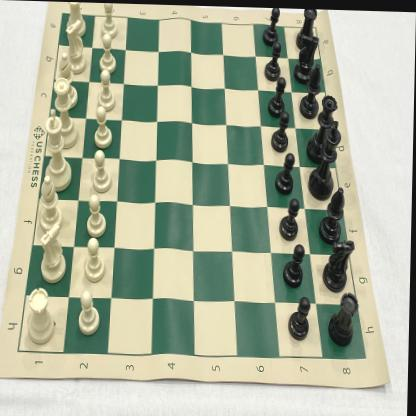black-bishop: (320, 183, 347, 241), (300, 62, 324, 116)
black-king: (309, 118, 343, 198)
black-knight: (324, 236, 357, 288), (295, 31, 320, 81)
black-pawn: (289, 294, 313, 341), (278, 195, 301, 240), (285, 241, 306, 289), (275, 150, 296, 192), (272, 109, 290, 151), (269, 75, 287, 116), (263, 6, 281, 46), (265, 40, 282, 80)
black-queen: (307, 92, 339, 162)
black-rook: (330, 289, 362, 345), (296, 7, 318, 48)
white-bishop: (40, 175, 65, 232), (58, 51, 79, 109)
white-king: (44, 108, 74, 191)
white-knight: (41, 223, 68, 283), (65, 20, 88, 74)
white-pawn: (76, 288, 103, 336), (85, 236, 107, 281), (94, 105, 114, 149), (87, 195, 108, 236), (93, 149, 113, 192), (99, 33, 118, 75), (98, 69, 116, 110), (101, 2, 119, 40)
white-queen: (52, 76, 79, 149)
white-rook: (27, 287, 57, 345), (67, 2, 88, 38)
